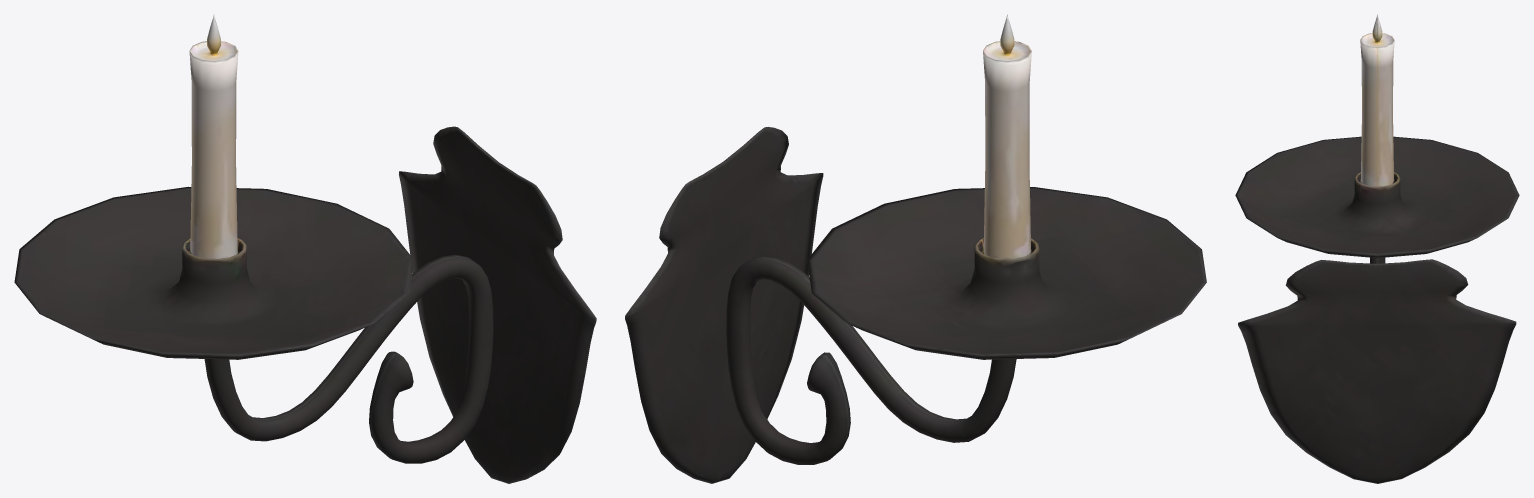
Rendered from wall_candle.glb.
The picture shows the model from 3 angles, left to right: view 1: azimuth 30°, elevation 25°; view 2: azimuth 150°, elevation 25°; view 3: azimuth 270°, elevation 25°; orthographic projection. The views are drawn at different scales.
Parts seen in each view (by area): view 1: Base_0; view 2: Base_0; view 3: Base_0.
Boxes of the visible parts, box(x1,y1,x2,y2) form: Base_0: box(14, 15, 596, 483); Base_0: box(625, 14, 1206, 483); Base_0: box(1235, 14, 1519, 483).
Bounding box in the file's own units: 2.38 × 2.62 × 1.8.
Materials: 1 (1 with a texture image).
